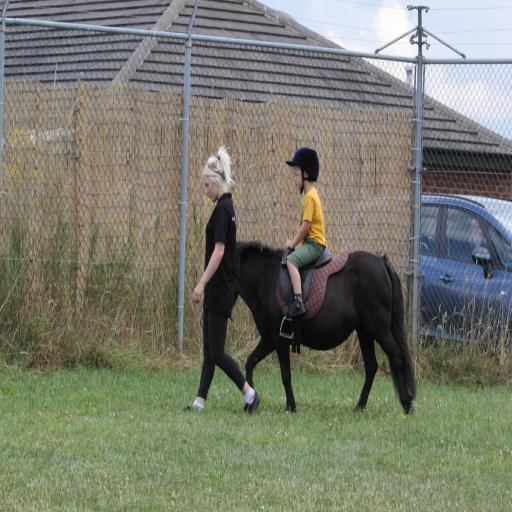horse: (231, 240, 415, 417)
